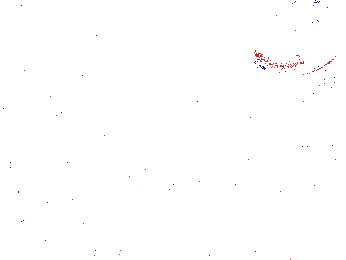moon jellyfish: (1, 3, 98, 112), (250, 1, 346, 76), (76, 23, 155, 97), (280, 78, 346, 137)
